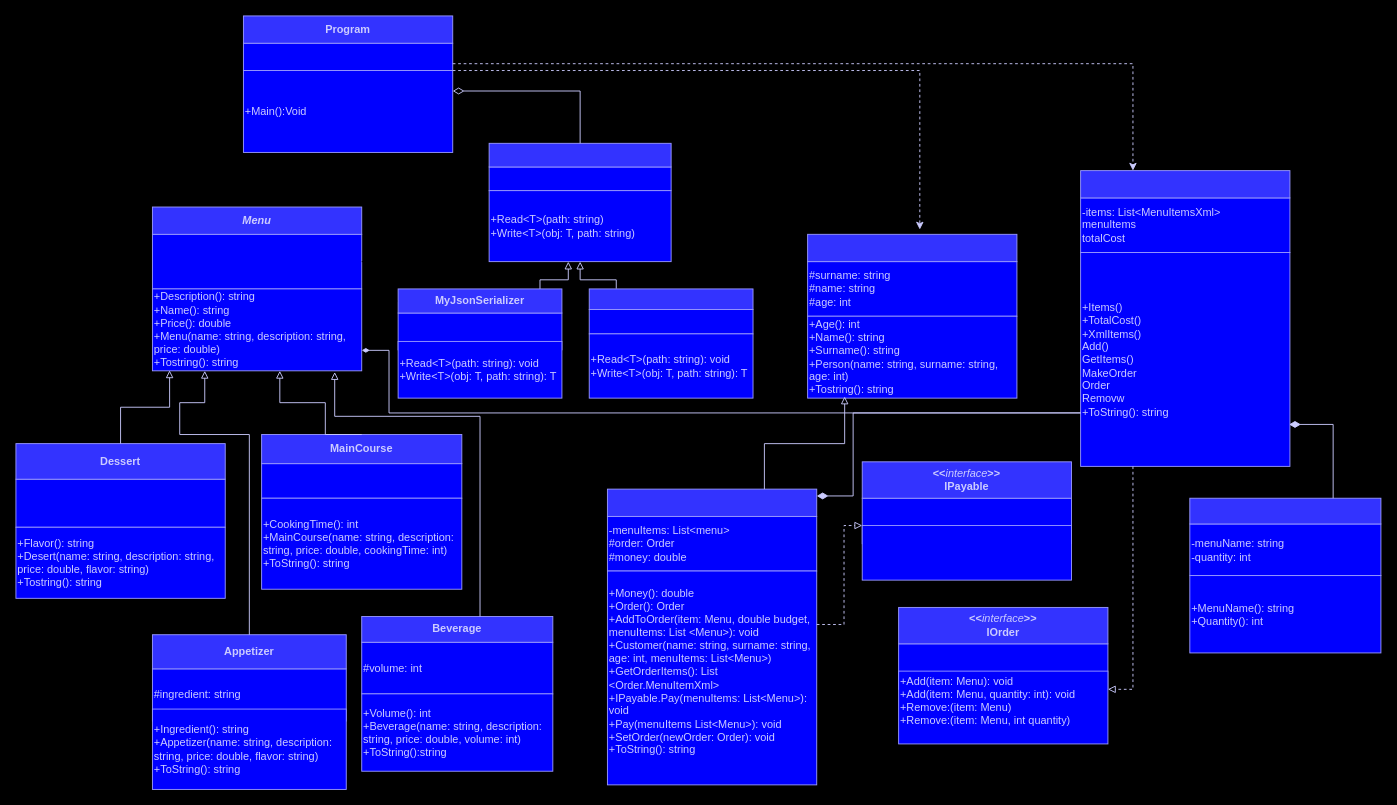
Image size: 1397x805. Some labels were removed from this diagram. The shapes that lost their labels are listed below. From the top down, each one's centre as x and y in pixels, then its label:
(579,154): MySerializer
(1185,184): Order
(257,261): #description: string #name: string #price: double
(912,247): Person
(670,298): MyXmlSerializer
(361,480): #cookingTime: int
(120,502): #flavor: string
(712,502): Сustomer
(1285,510): MenuItemXml
(966,552): +Pay(menuItems List<Menu>): void
